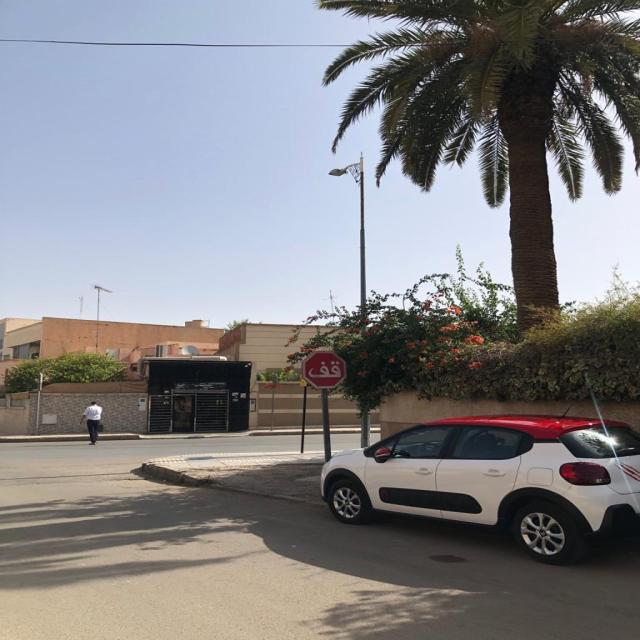Car: (321, 416, 640, 565)
